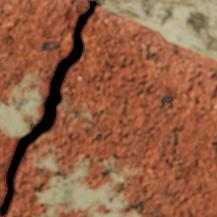brick: (0, 6, 216, 216), (0, 0, 88, 205)
crack: (0, 1, 97, 214)
